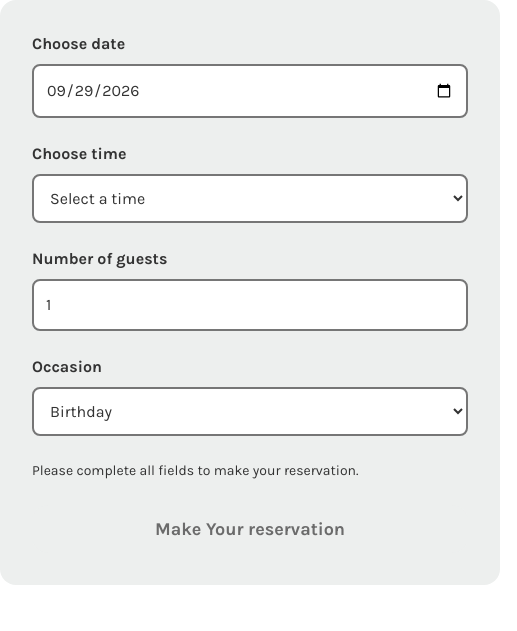
Scenario: BookingForm: React validation › shows a guests error and disables submit for 11 guests
Select "17:00" in the dropdown labelled "Choose time" at (250, 198), box [32, 174, 468, 223]
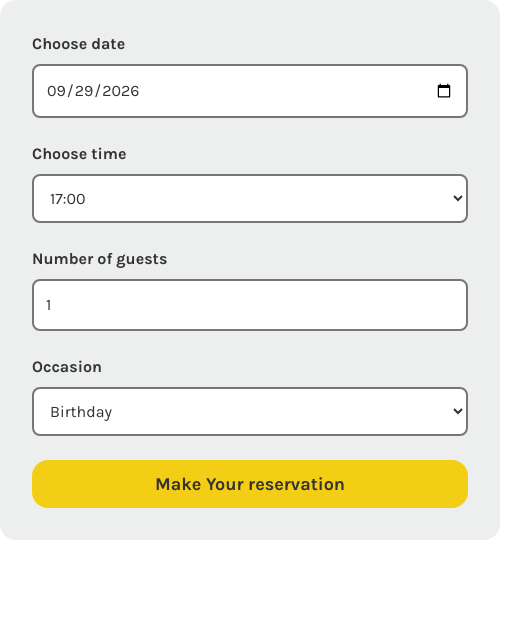
Replace the text in the number field labelled "Number of guests" with "11" at (250, 305), box [32, 279, 468, 331]
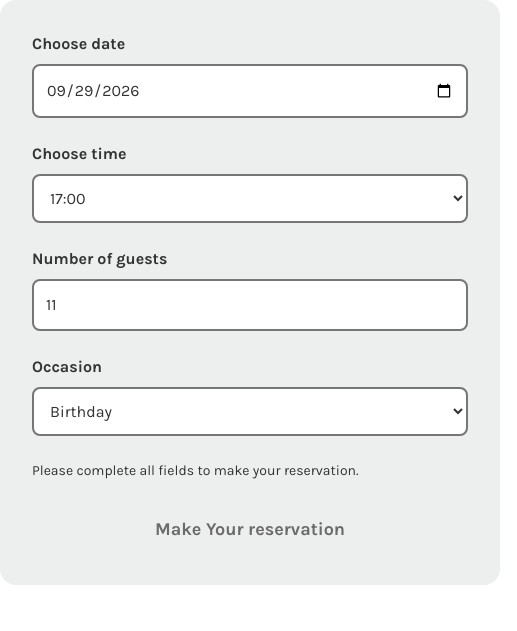
Leave the number field labelled "Number of guests", box [32, 279, 468, 331]
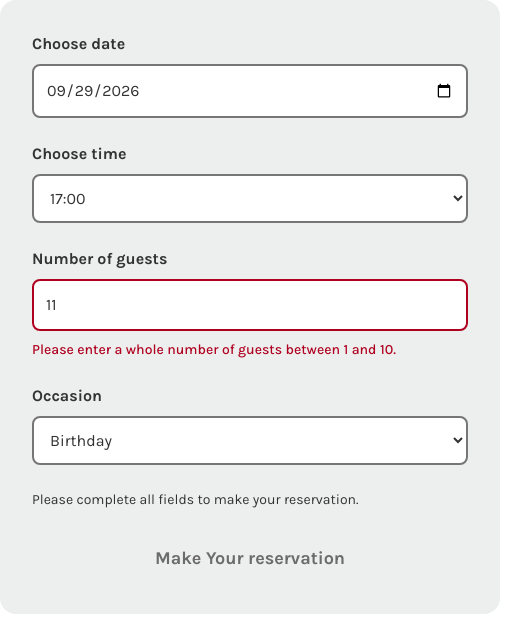
Expected: the button "Make Your reservation" is disabled, [32, 534, 468, 582]
Expected: the text "Please enter a whole number of guests between 1 and 10." is shown, [32, 341, 396, 358]
